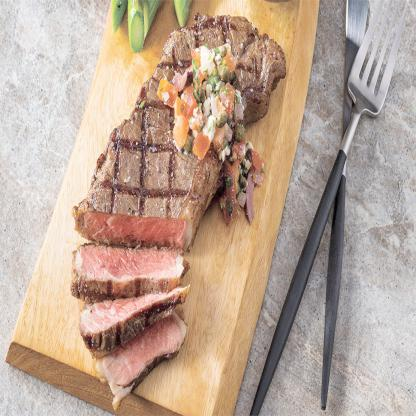Carne: (77, 20, 289, 226), (69, 281, 183, 359), (67, 232, 183, 297)
